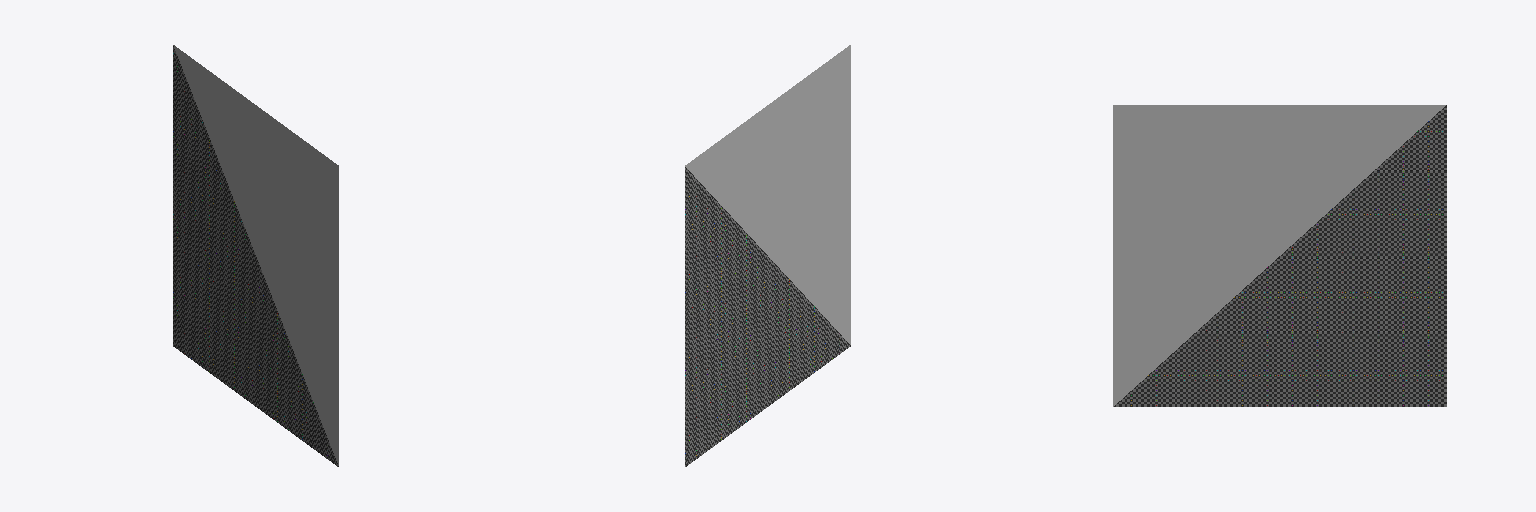
The picture shows the model from 3 angles: view 1: azimuth 30°, elevation 25°; view 2: azimuth 150°, elevation 25°; view 3: azimuth 270°, elevation 25°; orthographic projection.
Visible parts, largest first — view 1: Plane.1; view 2: Plane.1; view 3: Plane.1.
Part boxes in pixels (x1,y1,x2,y2): Plane.1: (173,45,338,466); Plane.1: (685,45,850,466); Plane.1: (1113,105,1446,406).
Bounding box in the file's own units: 0 × 100 × 100.
1 materials, 1 textured.